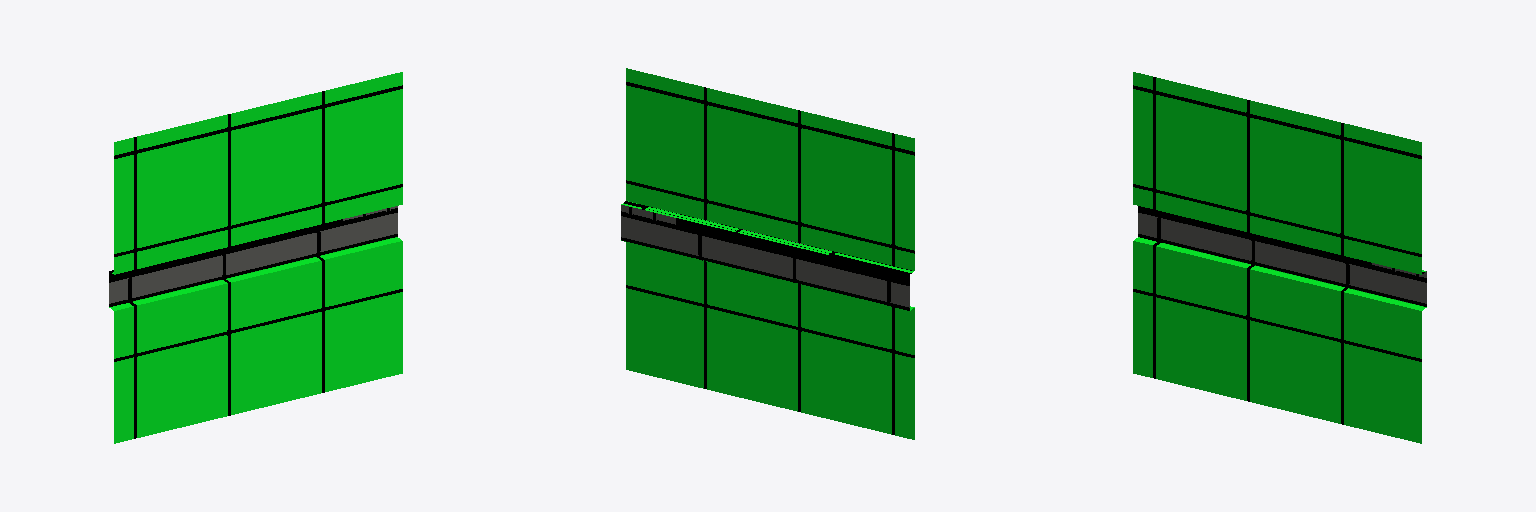
3 renders of one model, left to right at view 1: azimuth 30°, elevation 25°; view 2: azimuth 150°, elevation 25°; view 3: azimuth 330°, elevation 25°, orthographic.
Visible parts, largest first — view 1: Plane_Plane.010; view 2: Plane_Plane.010; view 3: Plane_Plane.010.
Part boxes in pixels (bbox=[...]): Plane_Plane.010: bbox=[109, 72, 402, 443]; Plane_Plane.010: bbox=[621, 68, 914, 439]; Plane_Plane.010: bbox=[1133, 72, 1426, 443].
Bounding box in the file's own units: 10 × 10 × 0.3.
Materials: 1 (1 with a texture image).